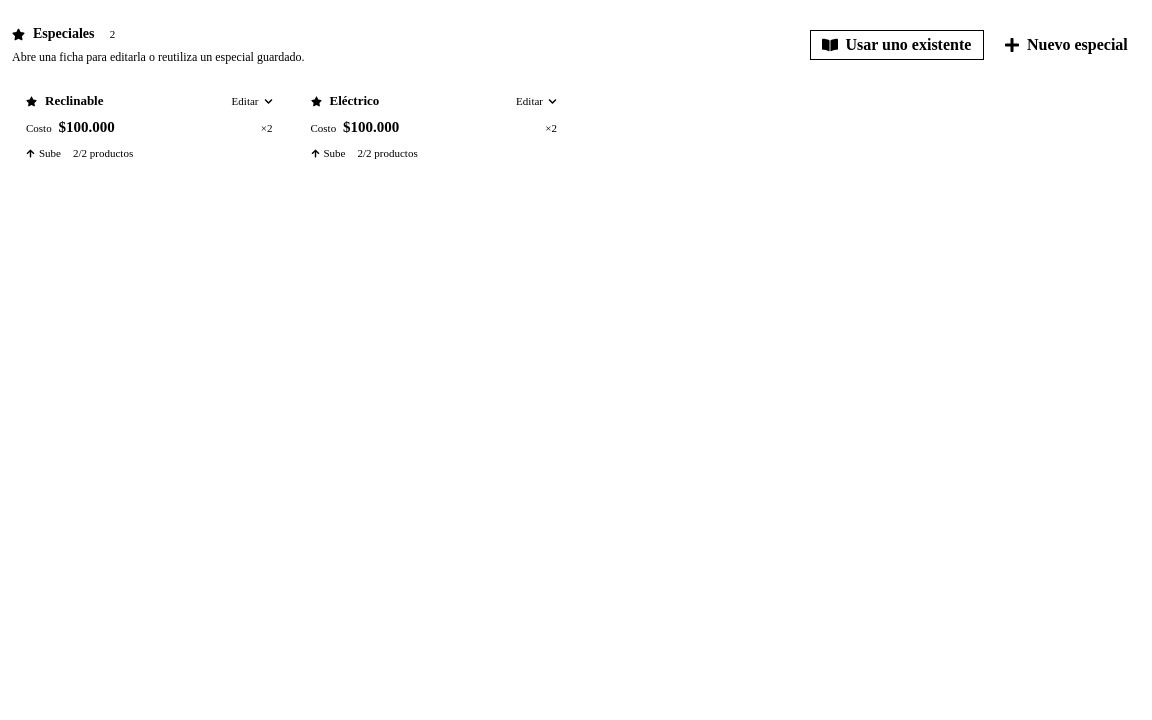
Especiales con costo, multiplicador y biblioteca › muestra fichas cerradas con la información principal y abre solo el editor elegido
Expected: the field labelled "Costo del especial" is not shown
Click the button with aria-label "Editar especial Reclinable": (74, 100) top-left (12, 78), bottom-right (286, 176)
(page scrolled)
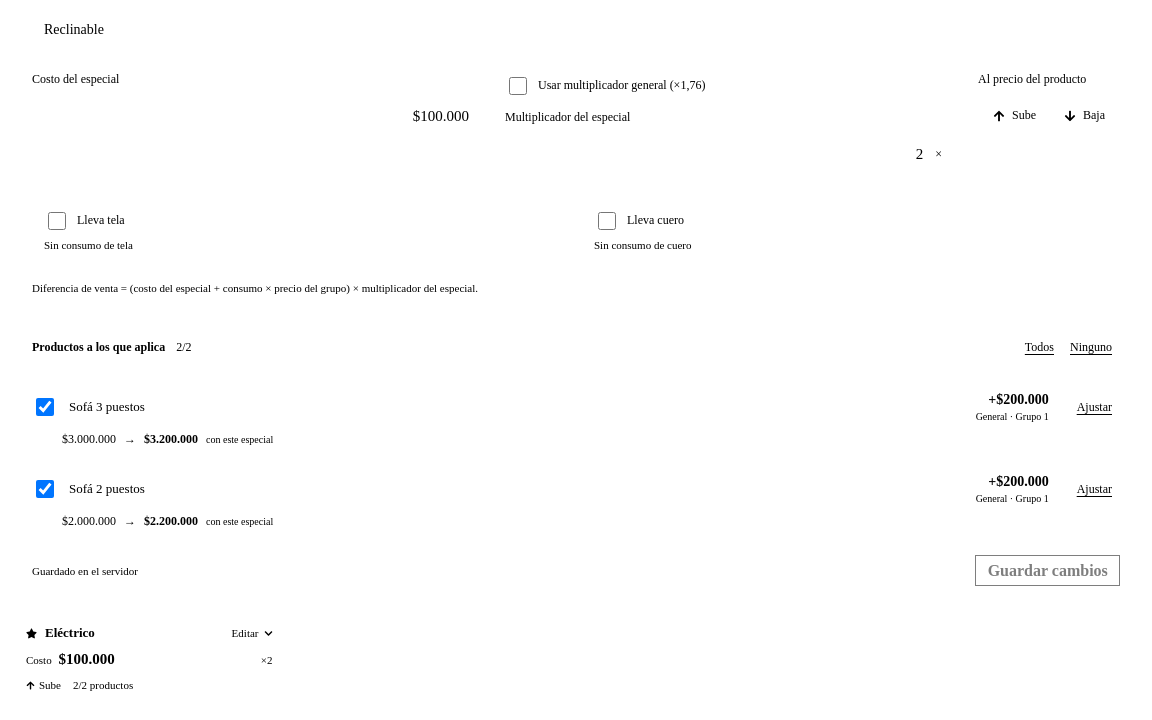
Result: the number of fields labelled "Costo del especial" is 1 at top-left (32, 96), bottom-right (481, 138)
